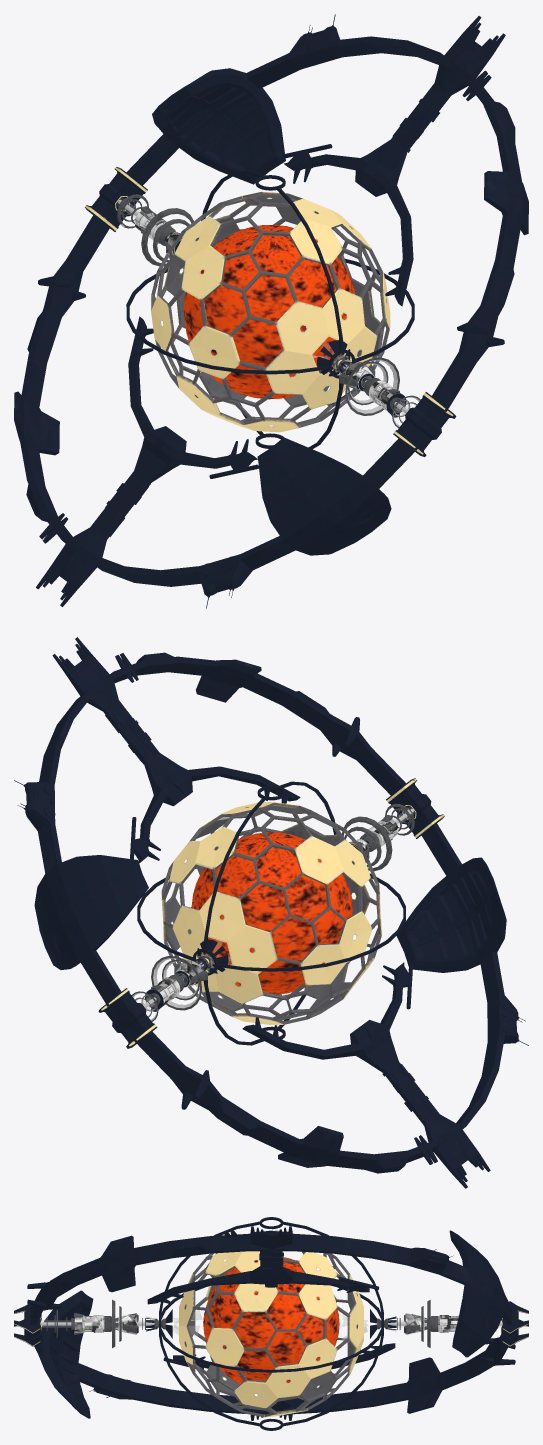
File: dyson-sphere.glb
3 views of the same model, one above another, from view 1: azimuth 30°, elevation 25°; view 2: azimuth 150°, elevation 25°; view 3: azimuth 270°, elevation 25° (orthographic). The views are drawn at different scales.
Parts seen in each view (by area): view 1: polySurface13, pPlane8; view 2: polySurface13, pPlane8; view 3: polySurface13, pPlane8.
Part boxes in pixels (x1,y1,x2,y2): polySurface13: (14, 14, 528, 608); pPlane8: (116, 191, 420, 432); polySurface13: (14, 637, 528, 1188); pPlane8: (131, 802, 414, 1024); polySurface13: (14, 1217, 528, 1430); pPlane8: (40, 1230, 502, 1417).
Size of the model in its own units: 68.27 by 68.27 by 87.78.
Materials: 2 (2 with a texture image).
